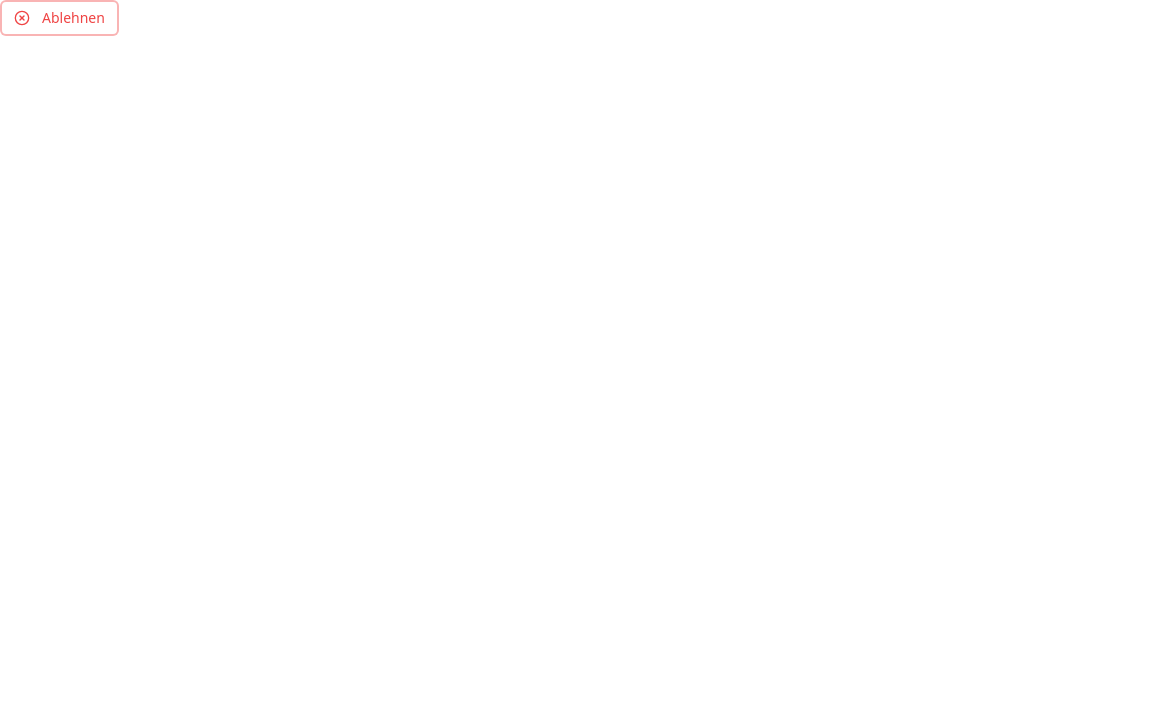
Test case: RejectInquiryDialog › sperrt die Absage, wenn alle Artikel verfügbar sind
Step 1. Click the button "Ablehnen" → click(59, 18), box [0, 0, 119, 36]
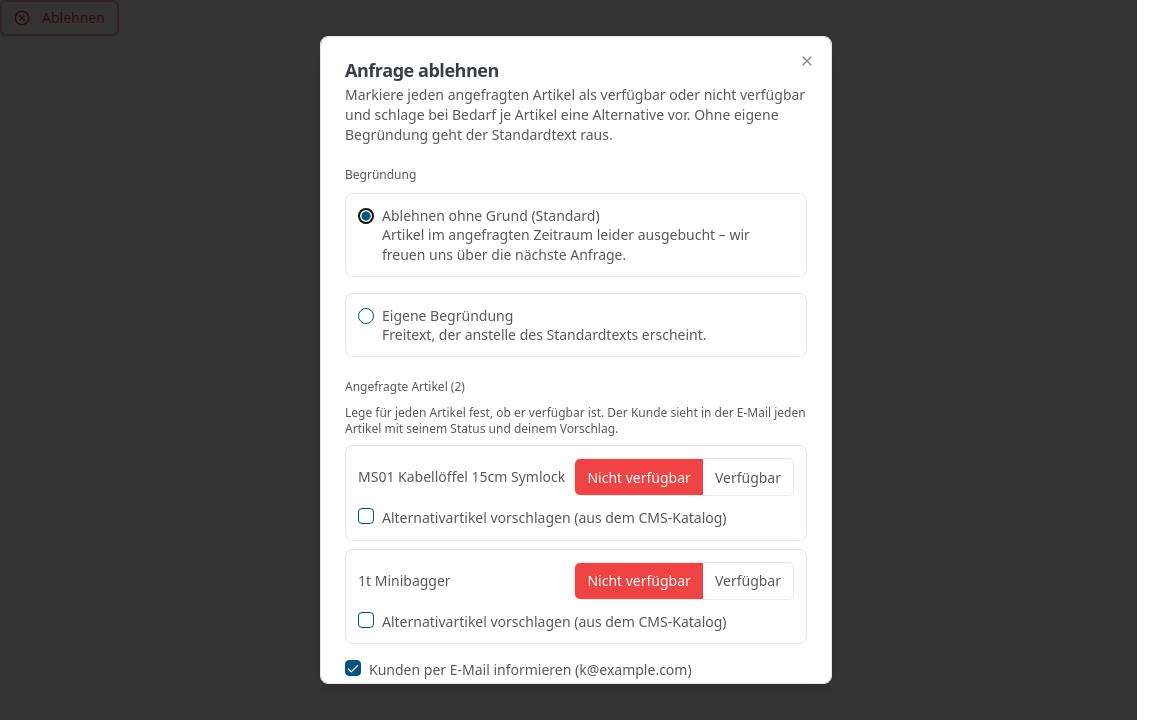
Step 2. Click the button "Verfügbar" in the row of "MS01 Kabellöffel 15cm Symlock" → click(748, 477), box [703, 459, 793, 495]
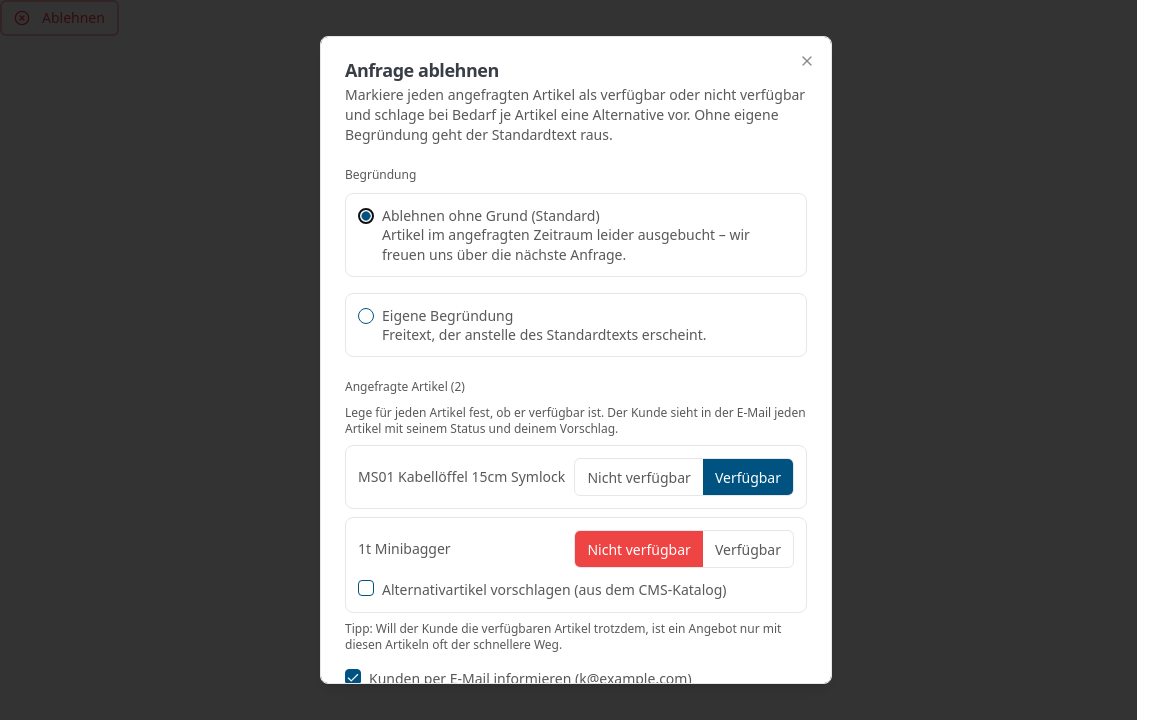
Step 3. Click the button "Verfügbar" in the row of "1t Minibagger" → click(748, 549), box [703, 531, 793, 567]
(page scrolled)
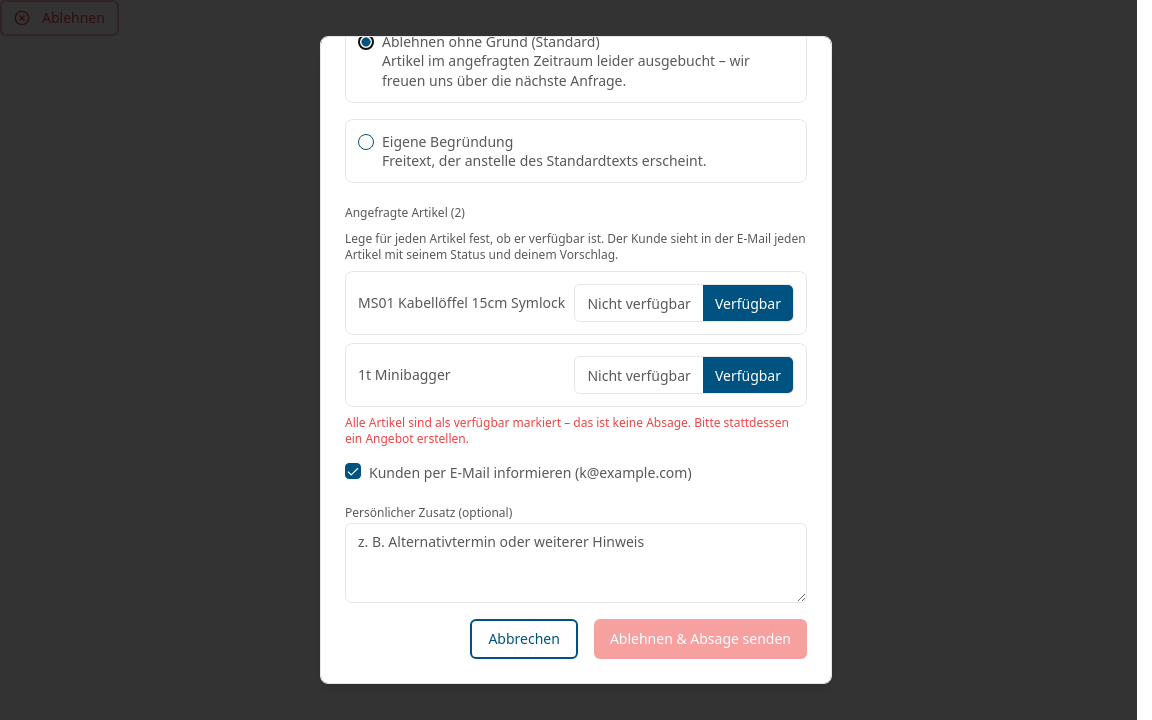
Expected: the button "Ablehnen & Absage senden" is disabled, [594, 618, 807, 658]
